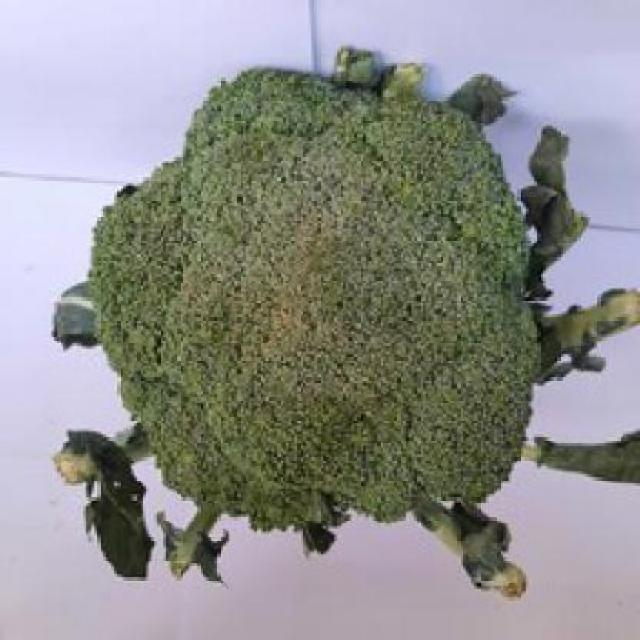broccoli: (88, 100, 638, 557)
